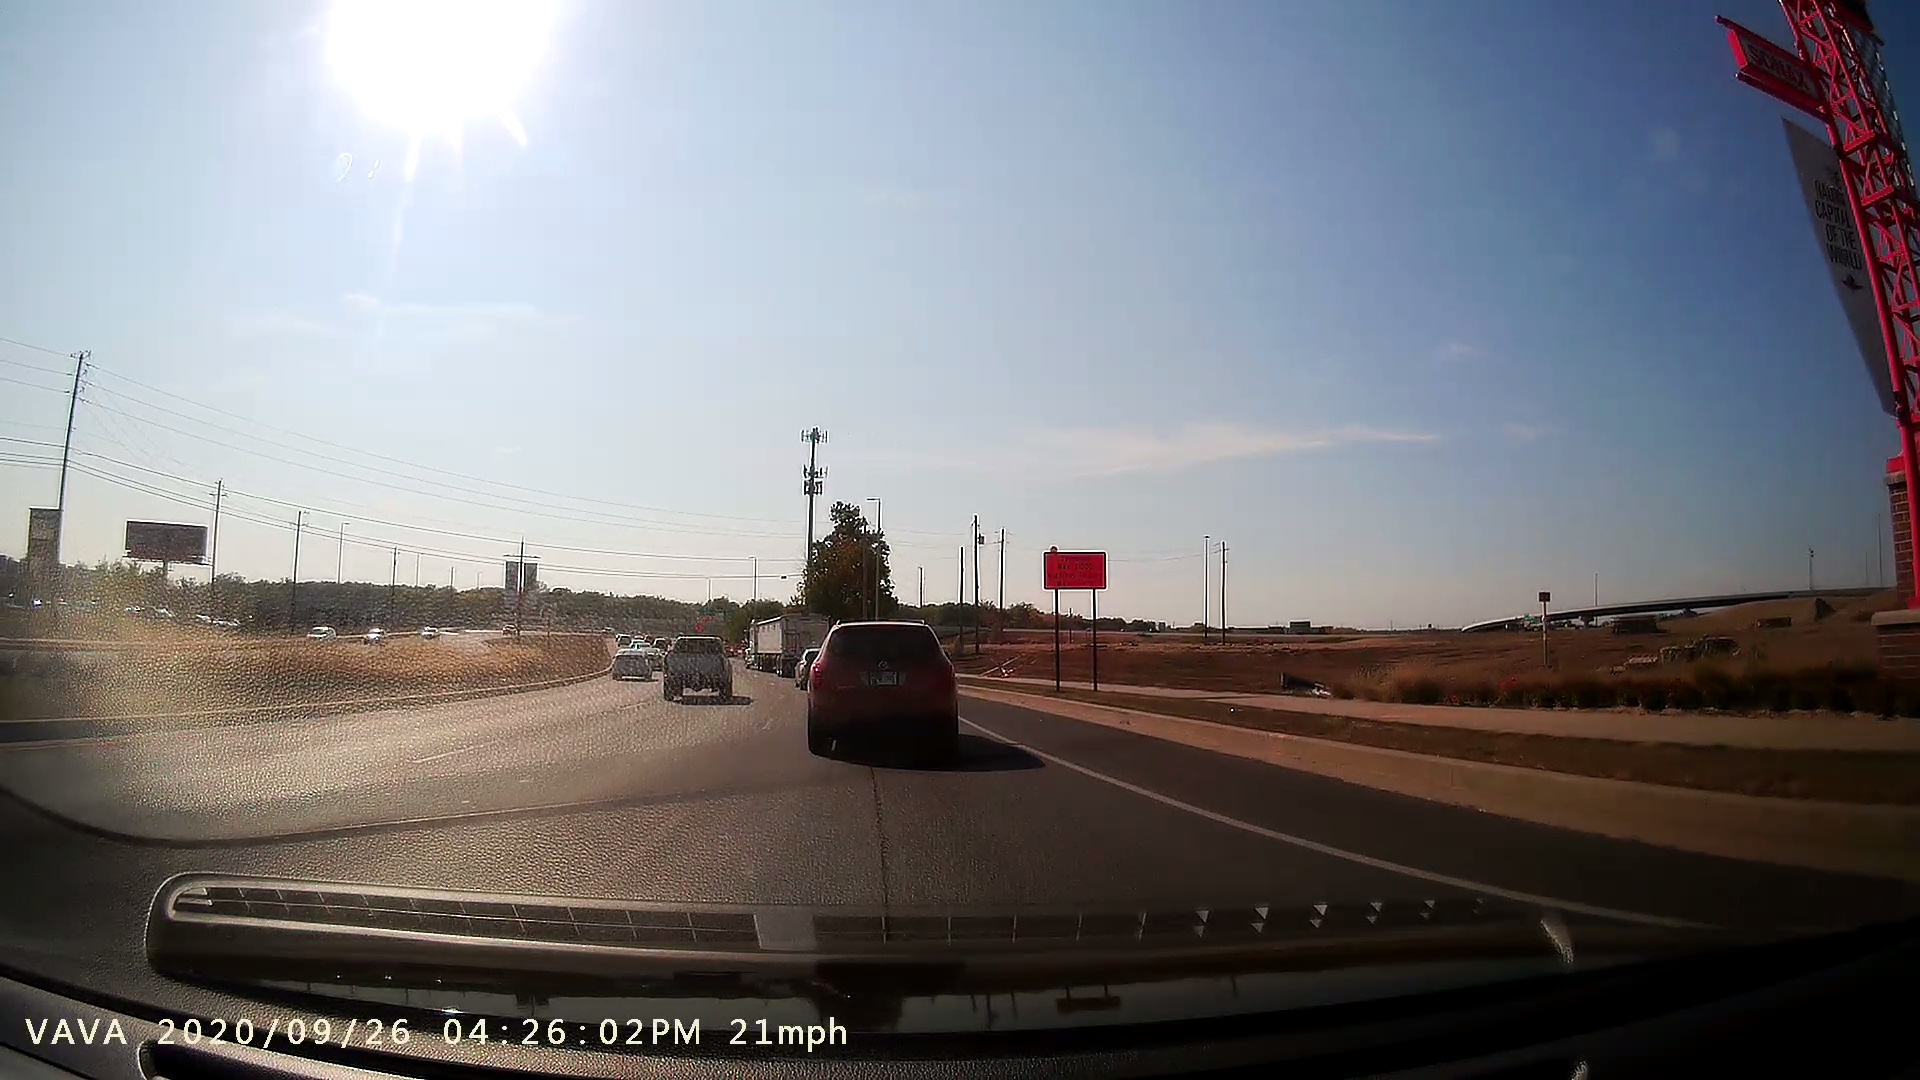temperary_sign: (1036, 535, 1124, 702)
